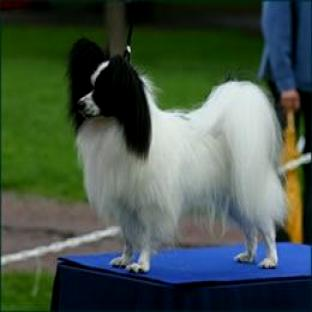Animal: (68, 38, 286, 272)
